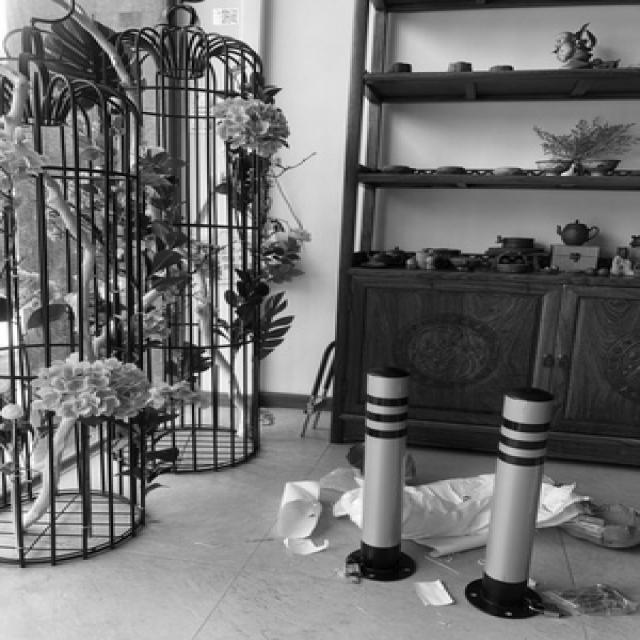warning_column: (463, 382, 552, 620), (348, 363, 416, 579)
